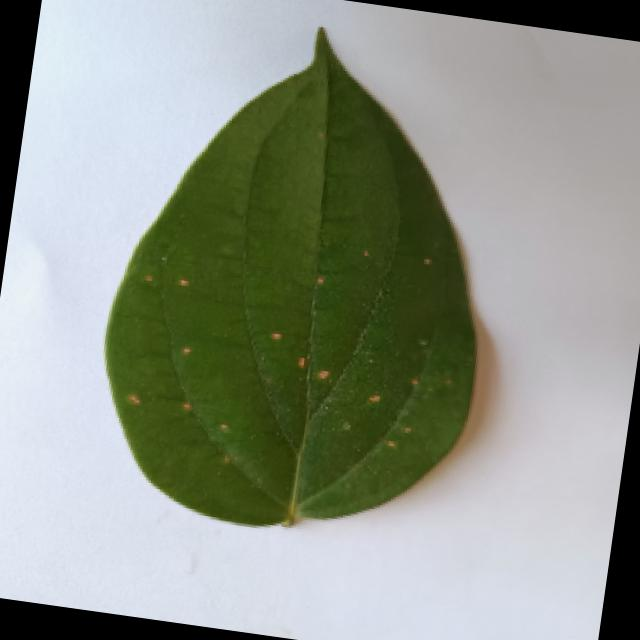pollu-disease: (68, 6, 530, 556)
